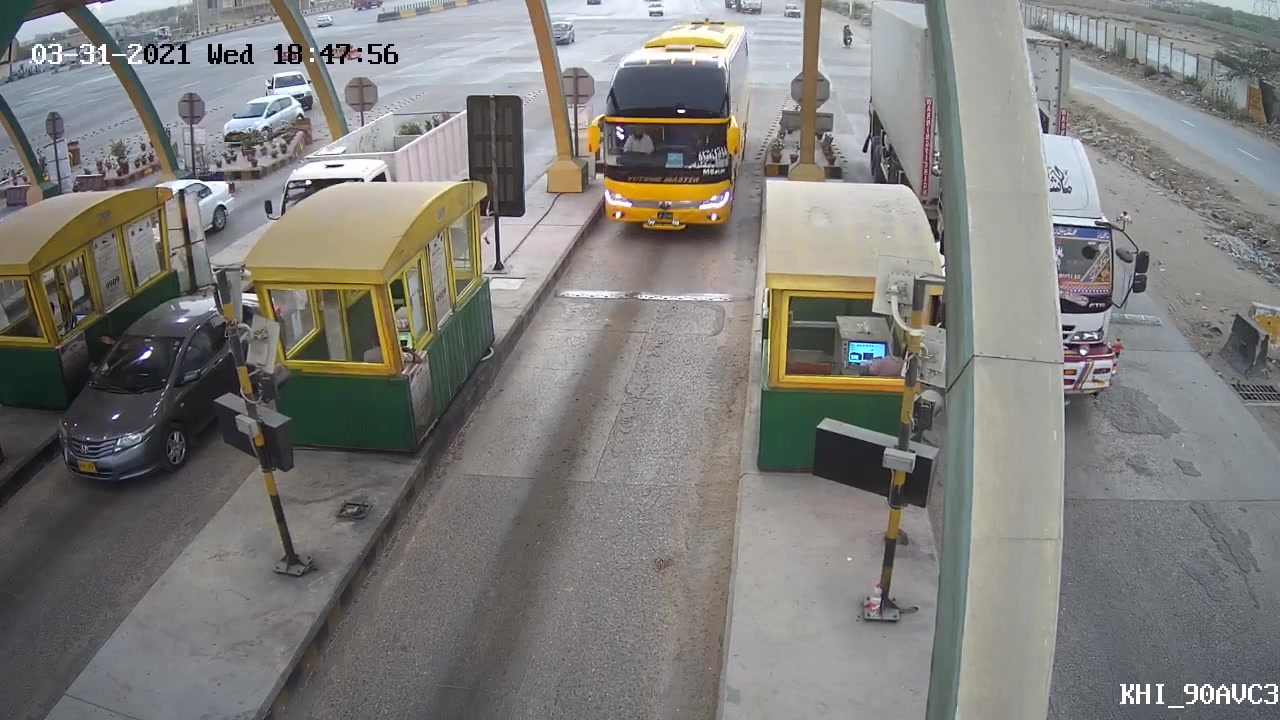F4: (582, 16, 760, 250)
